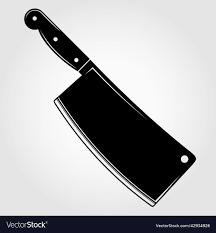Knife: (23, 7, 196, 206)
